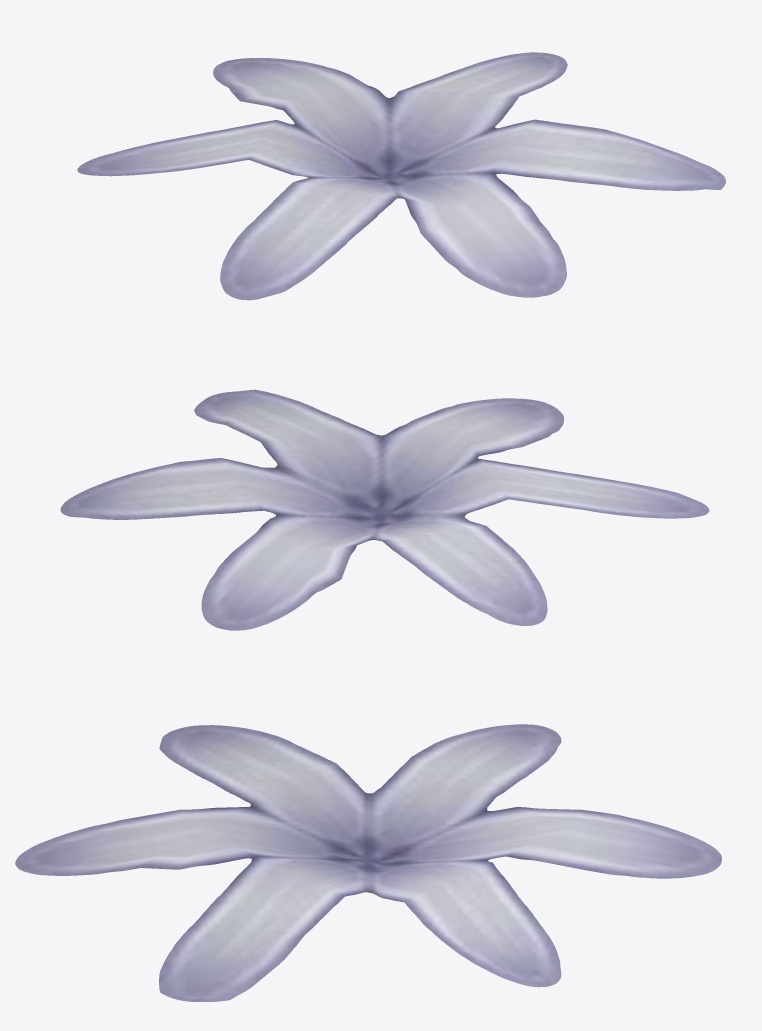
File: flower08.glb
The picture shows the model from 3 angles, top to bottom: view 1: azimuth 30°, elevation 25°; view 2: azimuth 150°, elevation 25°; view 3: azimuth 270°, elevation 25°; orthographic projection. The views are drawn at different scales.
Parts seen in each view (by area): view 1: Flower08; view 2: Flower08; view 3: Flower08.
Part boxes in pixels (x1,y1,x2,y2): Flower08: (77, 52, 725, 300); Flower08: (60, 389, 709, 630); Flower08: (15, 724, 721, 1001).
Bounding box in the file's own units: 0.6029 × 0.0375 × 0.6029.
Materials: 1 (1 with a texture image).
